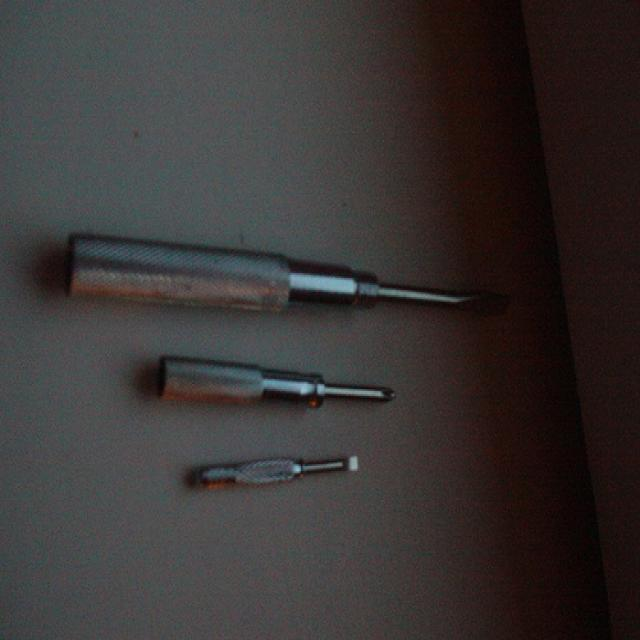screwdriver: (54, 211, 519, 336), (146, 352, 407, 426)
